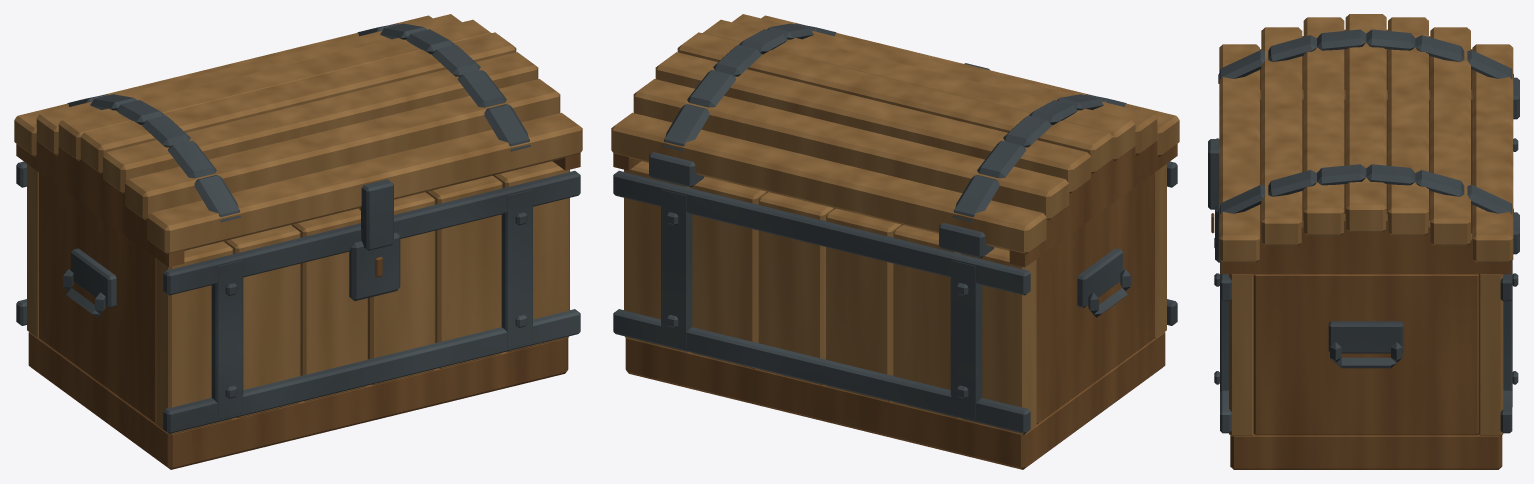
File: chest.glb
3 views of the same model, side by side, from view 1: azimuth 30°, elevation 25°; view 2: azimuth 150°, elevation 25°; view 3: azimuth 270°, elevation 25° (orthographic). The views are drawn at different scales.
Parts seen in each view (by area): view 1: Body, Lid; view 2: Body, Lid; view 3: Lid, Body.
Part boxes in pixels (bbox=[...]): Body: bbox=[16, 161, 580, 469]; Lid: bbox=[14, 14, 582, 267]; Body: bbox=[613, 161, 1177, 469]; Lid: bbox=[611, 14, 1179, 267]; Lid: bbox=[1208, 14, 1519, 274]; Body: bbox=[1211, 90, 1518, 469].
Bounding box in the file's own units: 1.03 × 0.6518 × 0.6645.
1 material, 1 textured.
